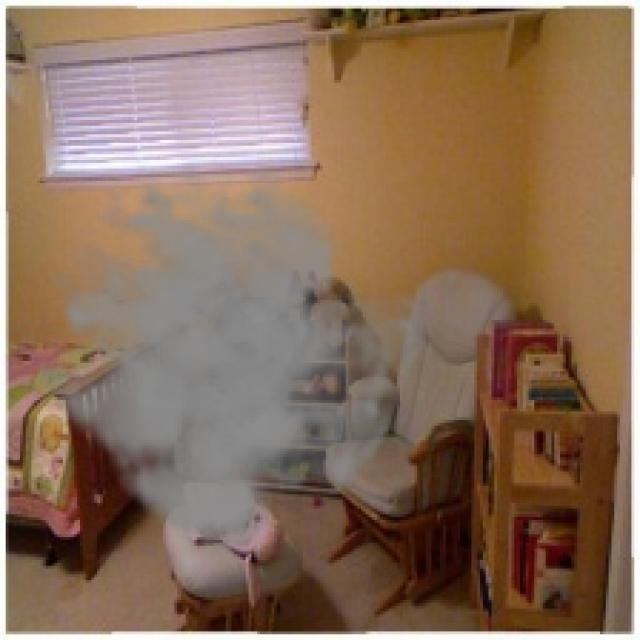Smoke: (22, 160, 434, 557)
